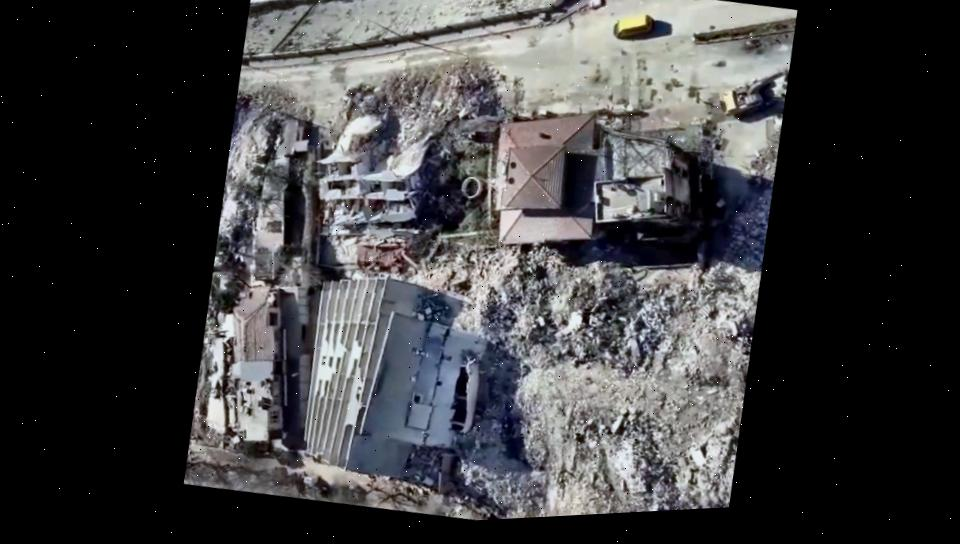kapali: (325, 25, 536, 133), (231, 60, 329, 140)
